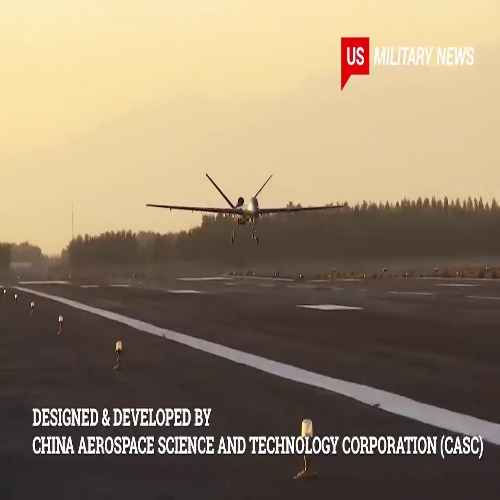uav57: (145, 170, 348, 241)
